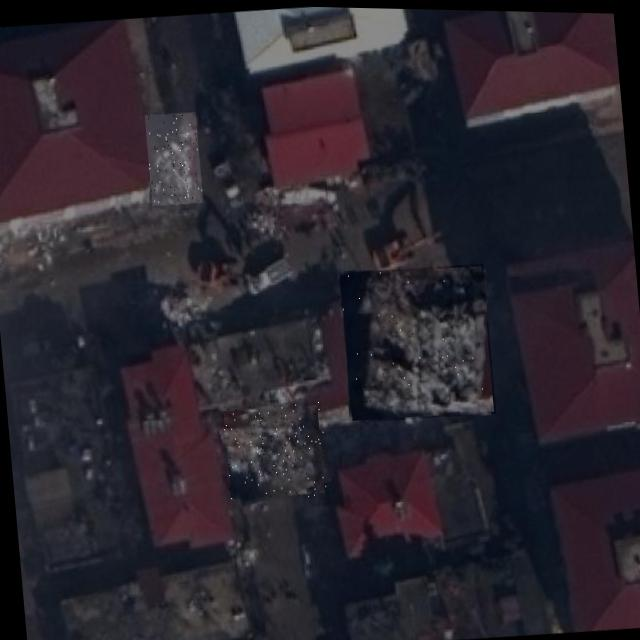Rubble: (338, 258, 496, 423), (219, 397, 329, 504), (144, 110, 203, 206)
